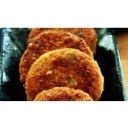cutlet: (30, 48, 104, 102), (22, 32, 91, 86), (38, 85, 97, 101)
